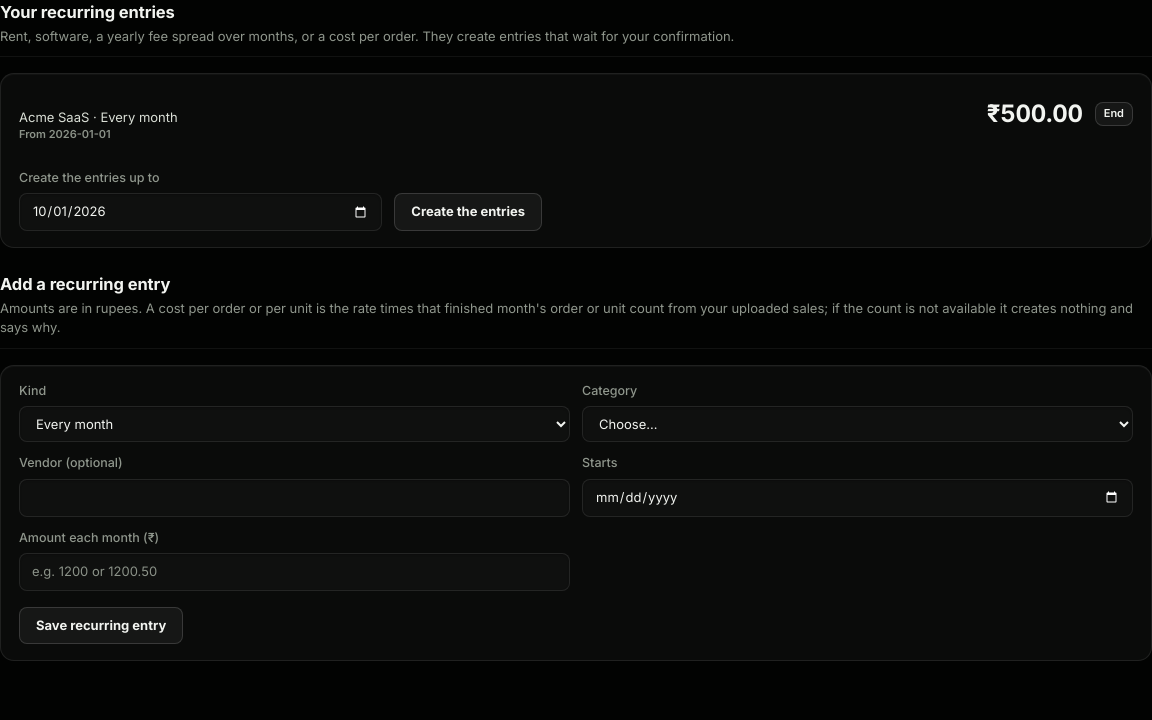
recurring entries › does not log a duplicate-key warning when one template is skipped for several months
Expected: the element with test id "template-row" is shown, [19,90,1133,153]
Click the button "Create the entries" at (468, 212), box [394,193,542,231]
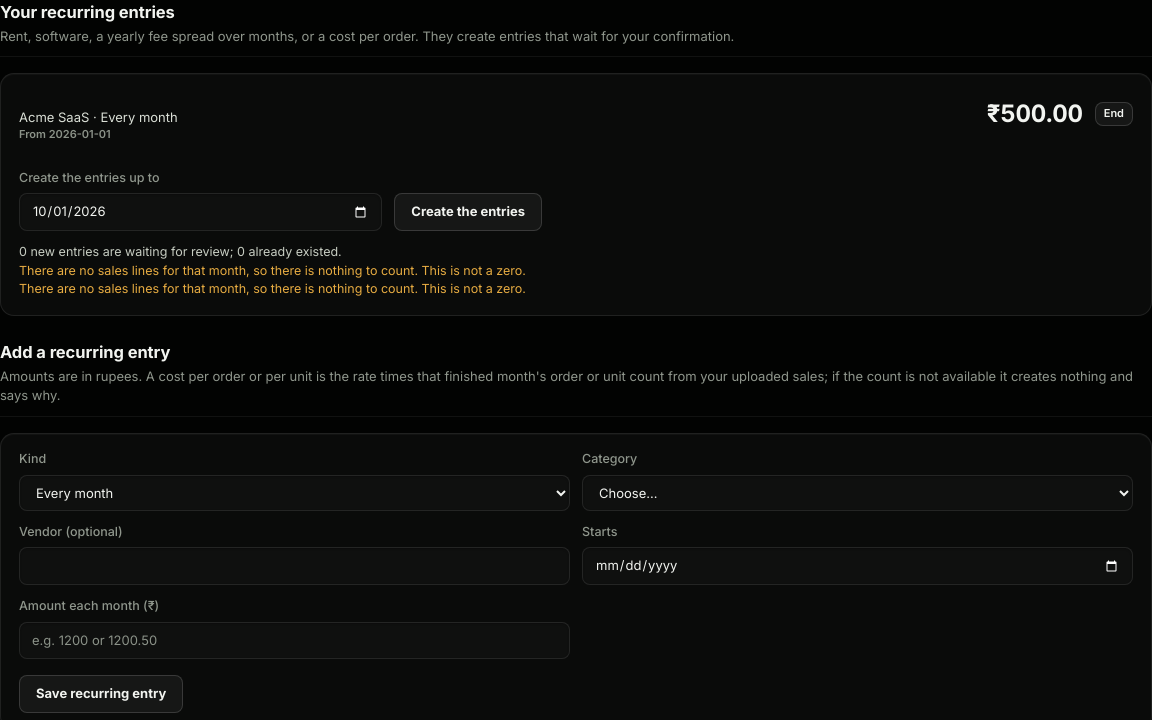
Expected: the element with test id "materialise-result" is shown, [19,244,526,296]
